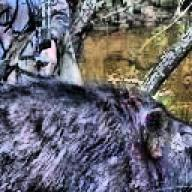boar: (0, 76, 192, 192)
